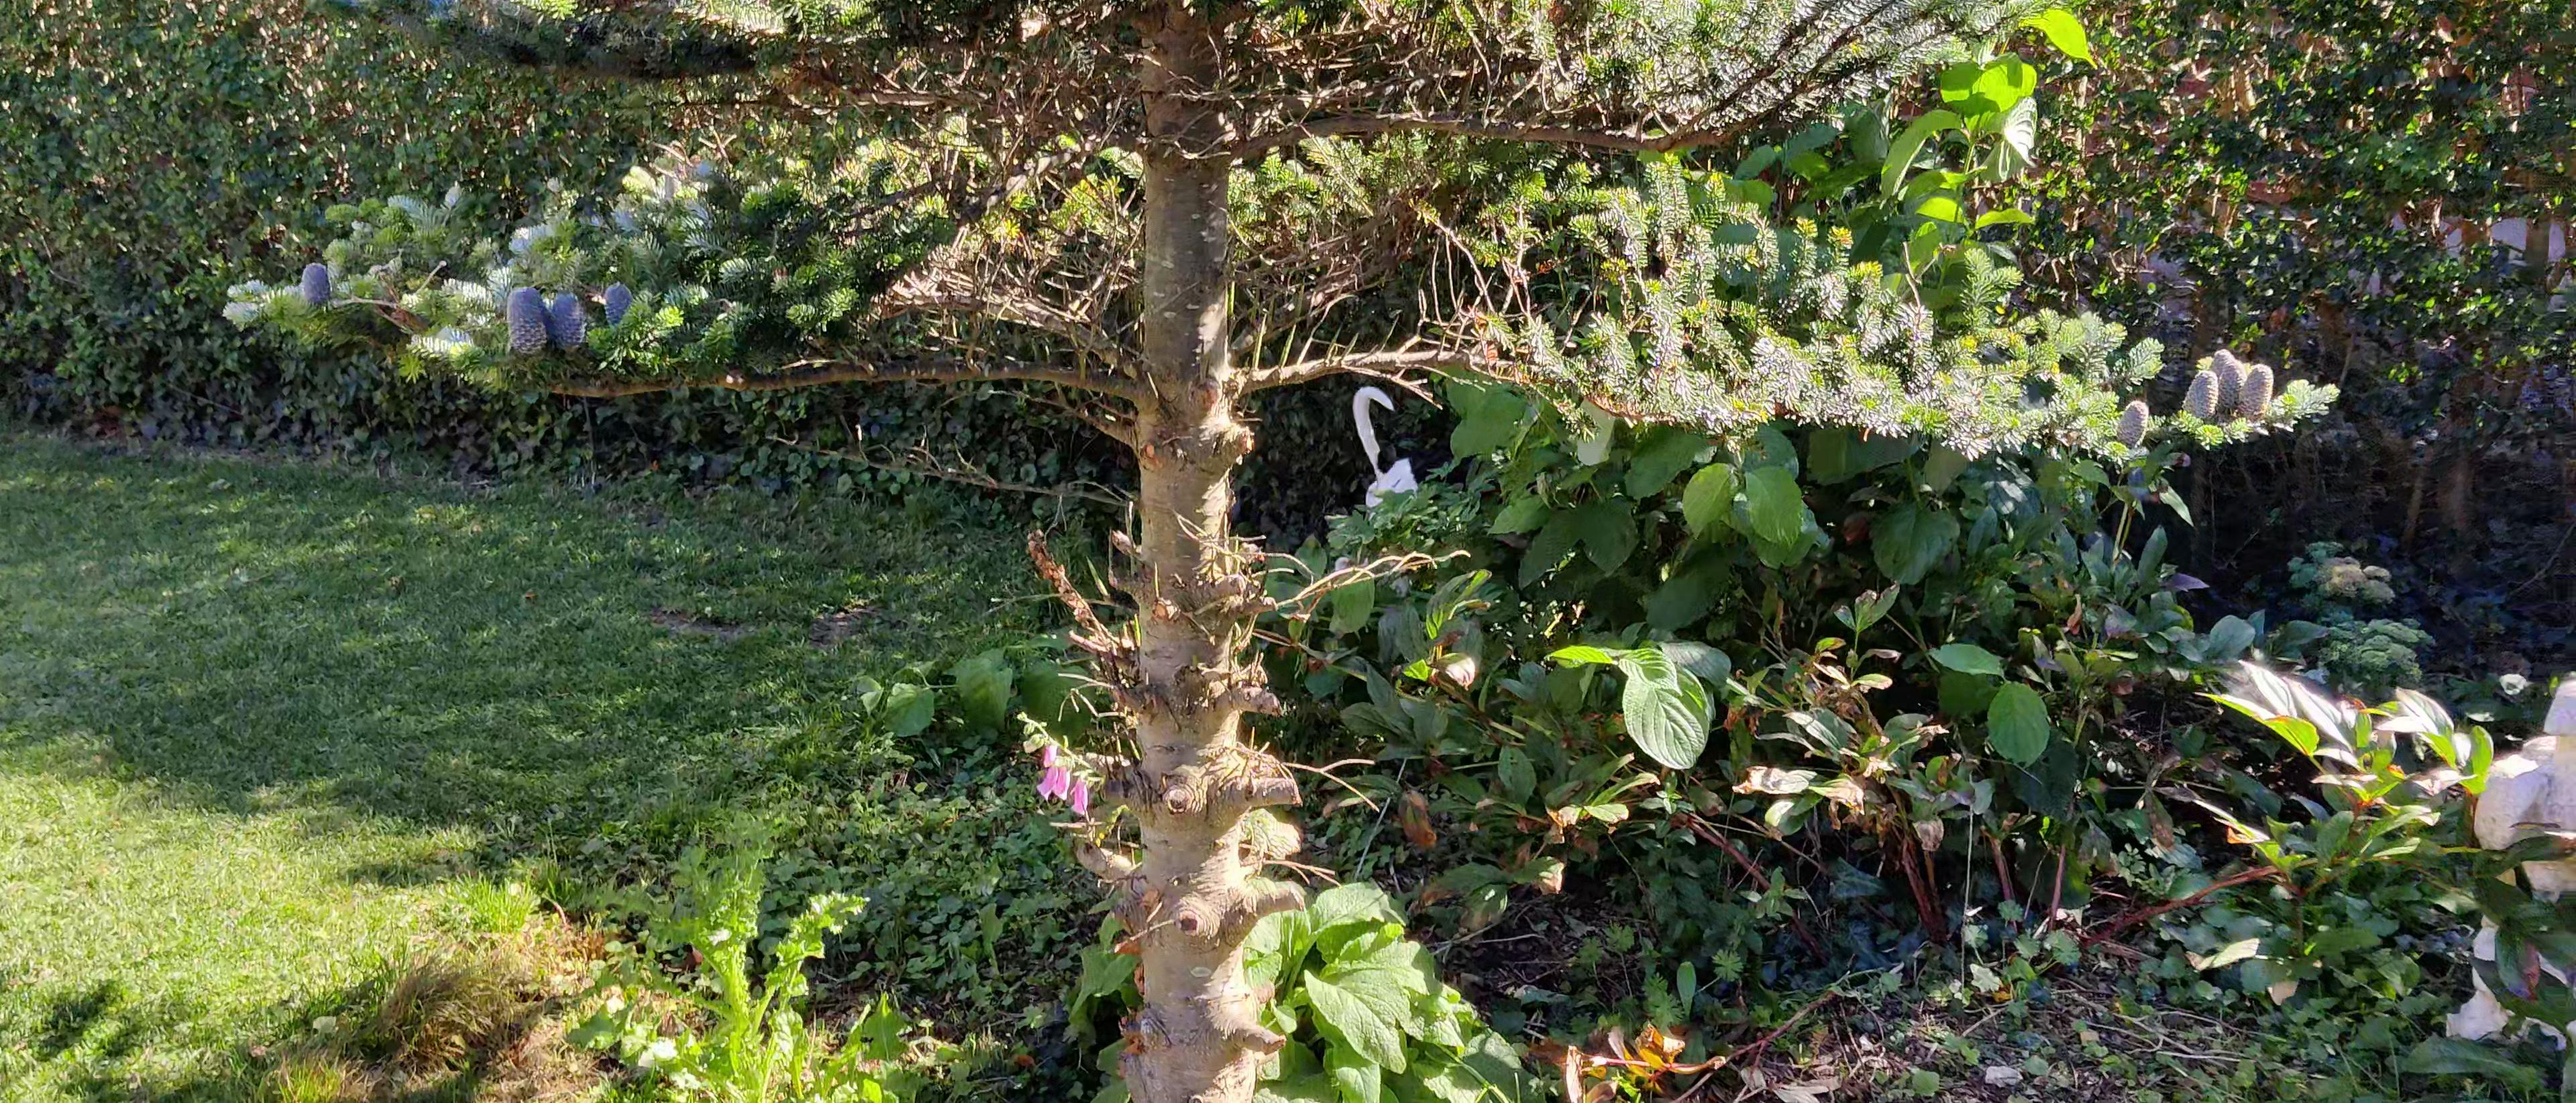Dog: (1344, 383, 1503, 521)
